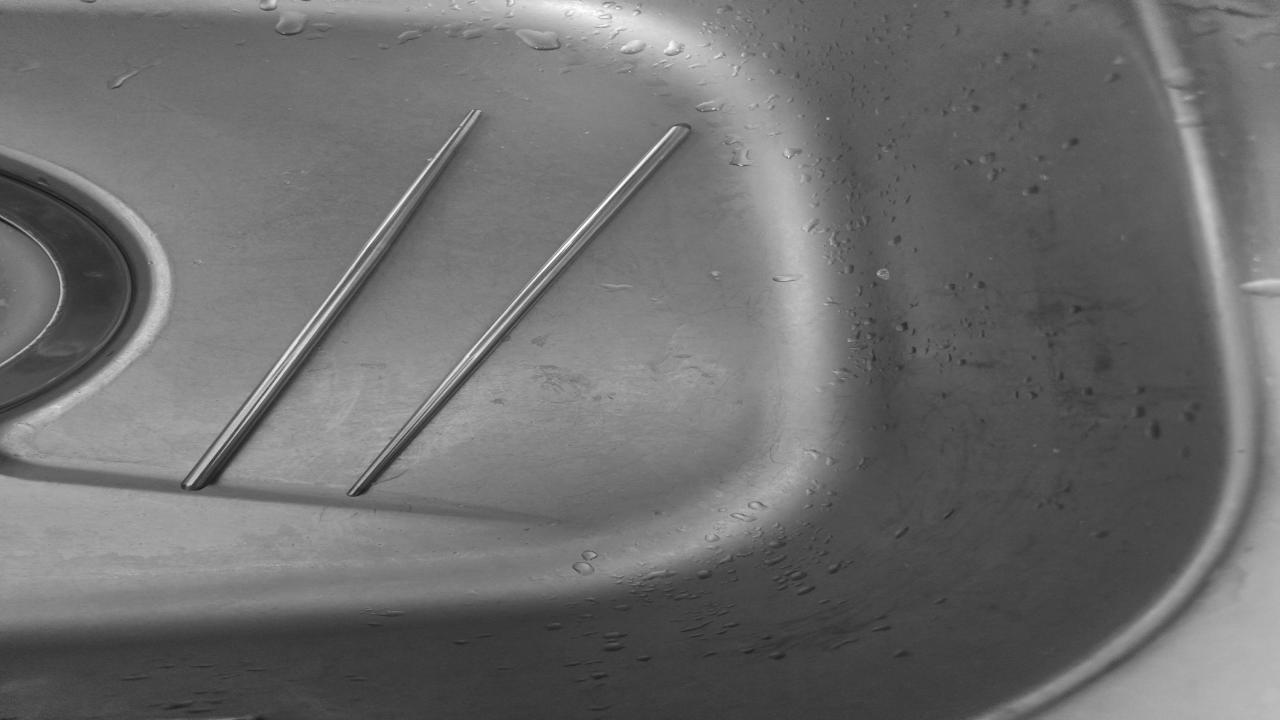chopstick: (347, 121, 698, 496), (179, 110, 485, 490)
